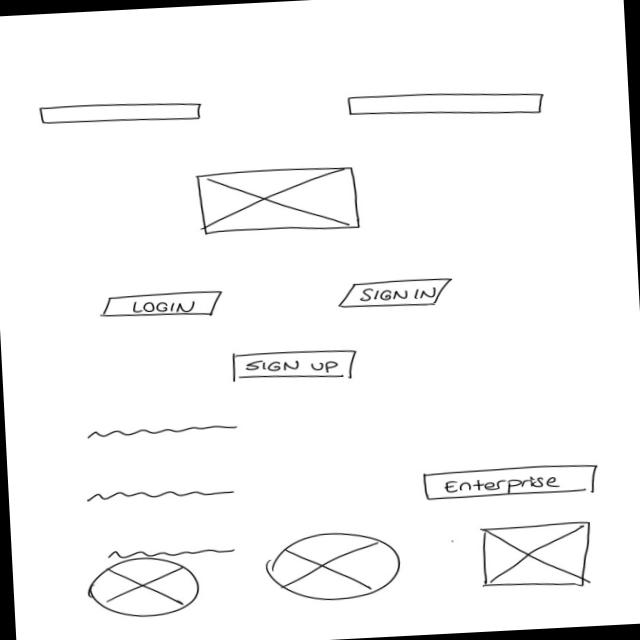button: (424, 463, 601, 503), (232, 349, 363, 388), (99, 288, 227, 323), (337, 277, 457, 312)
image: (195, 164, 364, 240), (264, 530, 405, 606), (479, 519, 597, 593), (86, 555, 203, 622)
input: (348, 86, 548, 127), (39, 99, 204, 131)
text: (84, 423, 241, 443), (84, 485, 237, 505), (107, 545, 238, 561)
